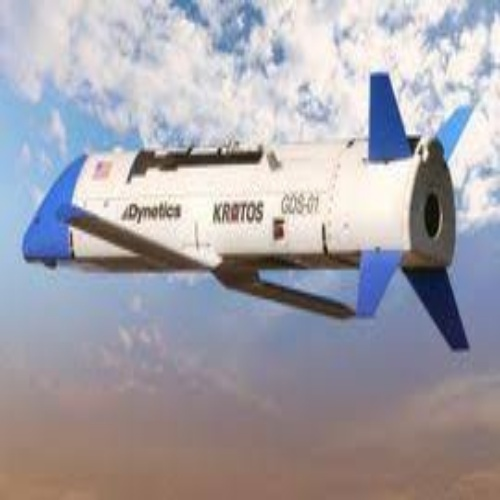uav427: (22, 74, 471, 354)
